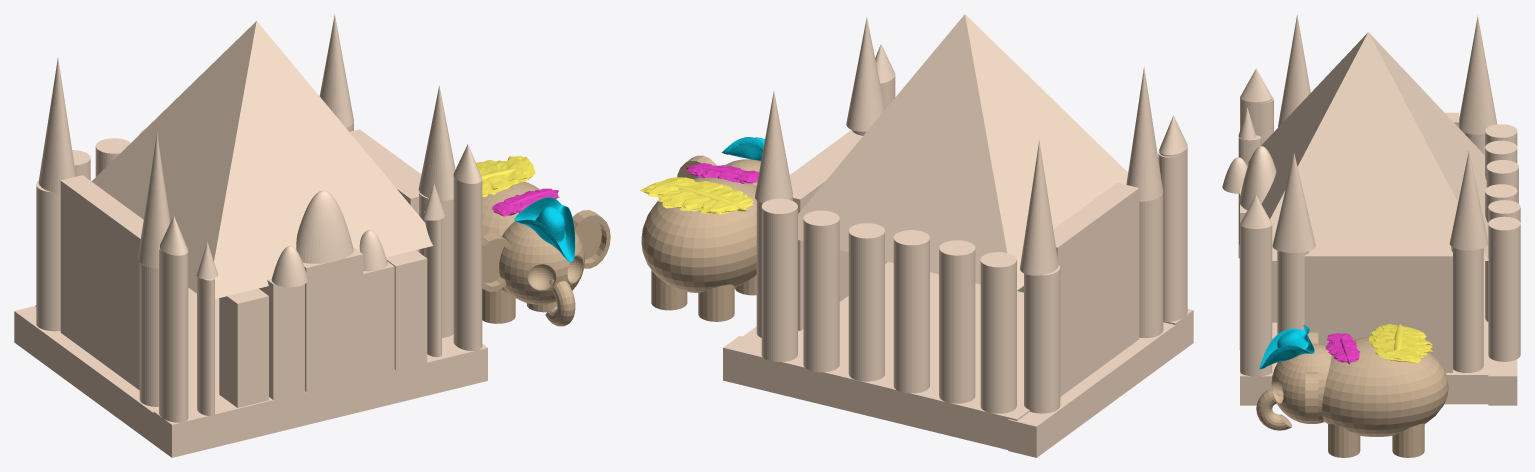
The model's file is India.glb.
3 renders of one model, left to right at view 1: azimuth 30°, elevation 25°; view 2: azimuth 150°, elevation 25°; view 3: azimuth 270°, elevation 25°, orthographic. The views are drawn at different scales.
Parts seen in each view (by area): view 1: Mesh_Mesh_head_geo.001_lambert2SG.001; view 2: Mesh_Mesh_head_geo.001_lambert2SG.001; view 3: Mesh_Mesh_head_geo.001_lambert2SG.001.
Boxes of the visible parts, x1,y1,x2,y2 form: Mesh_Mesh_head_geo.001_lambert2SG.001: [14, 14, 610, 457]; Mesh_Mesh_head_geo.001_lambert2SG.001: [639, 14, 1193, 457]; Mesh_Mesh_head_geo.001_lambert2SG.001: [1222, 15, 1520, 457].
Size of the model in its own units: 0.301 by 0.21 by 0.185.
